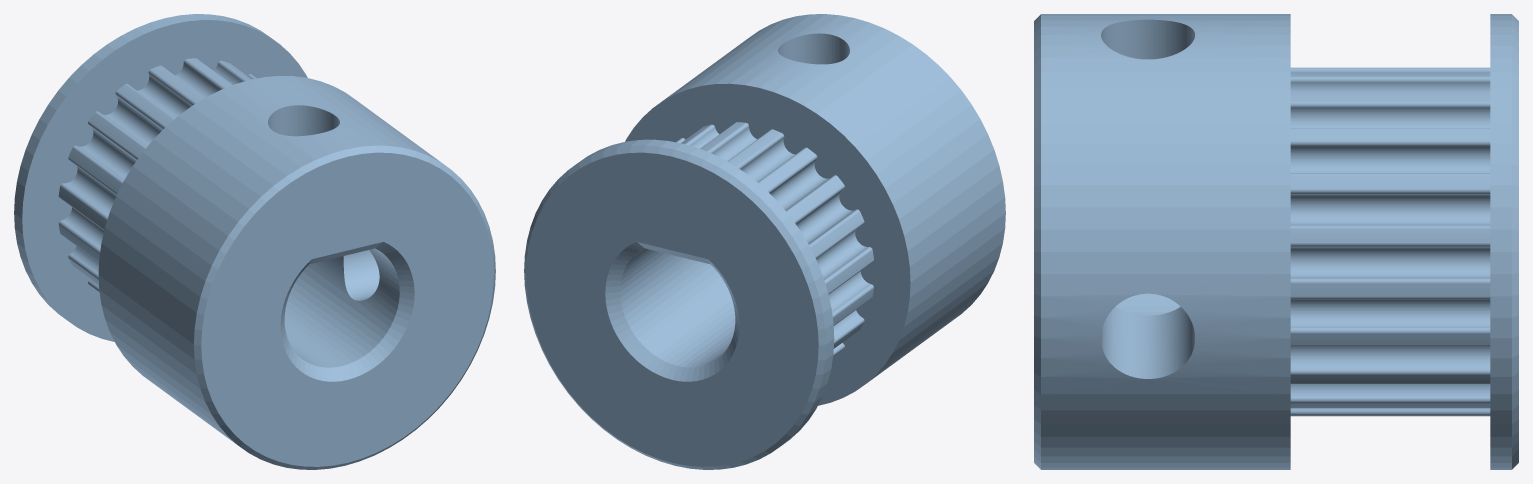
File: gt2-20t-pulley.glb
The picture shows the model from 3 angles, left to right: view 1: azimuth 30°, elevation 25°; view 2: azimuth 150°, elevation 25°; view 3: azimuth 270°, elevation 25°; orthographic projection. The views are drawn at different scales.
Visible parts, largest first — view 1: pulley20.stl; view 2: pulley20.stl; view 3: pulley20.stl.
Part boxes in pixels (<box>): pulley20.stl: <box>14,14,495,469</box>; pulley20.stl: <box>524,14,1005,469</box>; pulley20.stl: <box>1034,14,1518,469</box>.
Size of the model in its own units: 16 by 16 by 17.
